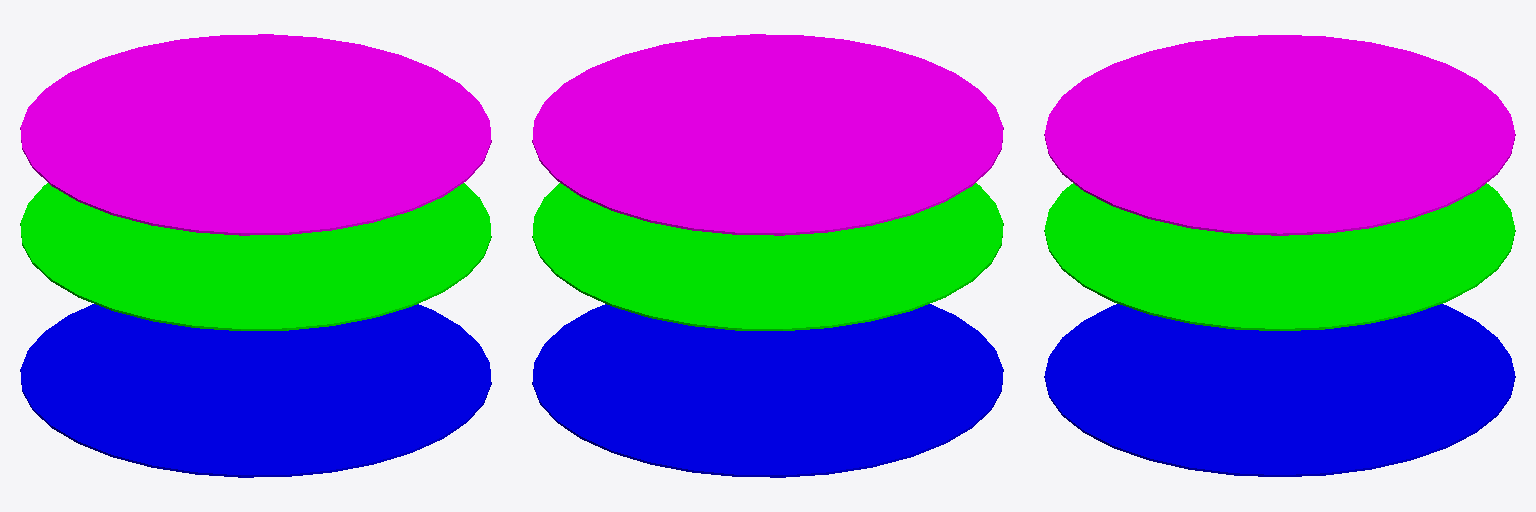
robot.urdf — lemonabot_frame:
<?xml version="1.0"?>
<robot name="lemonabot_frame" xmlns:xacro="http://ros.org/wiki/xacro">
  <link name="base_footprint"/>

  <joint name="base_joint" type="fixed">
      <origin xyz="0 0 0" rpy="0 0 0" />
      <parent link="base_footprint"/>
      <child link="base_link" />
  </joint>

  <link name="base_link">
    <visual>
      <origin rpy="0 0 0" xyz="0 0 .18"/>
      <material name="red">
        <color rgba="0.1 0 0 1"/>
      </material>
    </visual>
  </link>

  <joint name="bottom_plate_joint" type="fixed">
      <origin xyz="0 0 0.03" rpy="0 0 0" />
      <parent link="base_link"/>
      <child link="bottom_plate_link" />
  </joint>
  
  <link name="bottom_plate_link">
    <visual>
      <geometry>
        <cylinder length="0.002" radius="0.19"/>
       <!-- <box size=".38 .48 .002"/>-->
      </geometry>
      <origin rpy="0 0 0" xyz="0 0 0"/>
      <material name="blue">
        <color rgba="0 0 1 1"/>
      </material>
    </visual>
  </link>

  <joint name="middle_plate_joint" type="fixed">
      <origin xyz="0 0 0.16" rpy="0 0 0" />
      <parent link="base_link"/>
      <child link="middle_plate_link" />
  </joint>

  <link name="middle_plate_link">
    <visual>
      <geometry>
	<cylinder length="0.002" radius="0.19"/>
        <!--<box size=".38 .38 .002"/>-->
      </geometry>
      <origin rpy="0 0 0" xyz="0 0 0"/>
      <material name="green">
        <color rgba="0 1 0 1"/>
      </material>
    </visual>
  </link>

  <joint name="top_plate_joint" type="fixed">
      <origin xyz="0 0 0.245" rpy="0 0 0" />
      <parent link="base_link"/>
      <child link="top_plate_link" />
  </joint>

  <link name="top_plate_link">
    <visual>
      <geometry>
	<cylinder length="0.002" radius="0.19"/>
        <!--<box size=".38 .38 .002"/>-->
      </geometry>
      <origin rpy="0 0 0" xyz="0 0 0"/>
      <material name="purple">
        <color rgba="1 0 1 1"/>
      </material>
    </visual>
  </link>
</robot>

--- Render facts (derived) ---
The picture shows the robot from 3 angles, left to right: view 1: azimuth 30°, elevation 25°; view 2: azimuth 150°, elevation 25°; view 3: azimuth 270°, elevation 25°; orthographic projection.
Model lemonabot_frame with 5 links and 4 joints (4 fixed), rooted at base_footprint, posed every joint at zero.
Links seen in each view (by area): view 1: top_plate_link, bottom_plate_link, middle_plate_link; view 2: top_plate_link, bottom_plate_link, middle_plate_link; view 3: top_plate_link, bottom_plate_link, middle_plate_link.
Boxes of the visible links, x1,y1,x2,y2 form: top_plate_link: (20, 34, 491, 235); bottom_plate_link: (20, 304, 491, 477); middle_plate_link: (20, 183, 491, 330); top_plate_link: (532, 34, 1003, 235); bottom_plate_link: (532, 304, 1003, 477); middle_plate_link: (532, 183, 1003, 330); top_plate_link: (1044, 35, 1515, 235); bottom_plate_link: (1044, 304, 1515, 476); middle_plate_link: (1044, 183, 1515, 330).
Bounding box of the posed robot: 0.38 × 0.38 × 0.217 m (x, y, z).
Geometry: primitives only (box / cylinder / sphere), no mesh files.